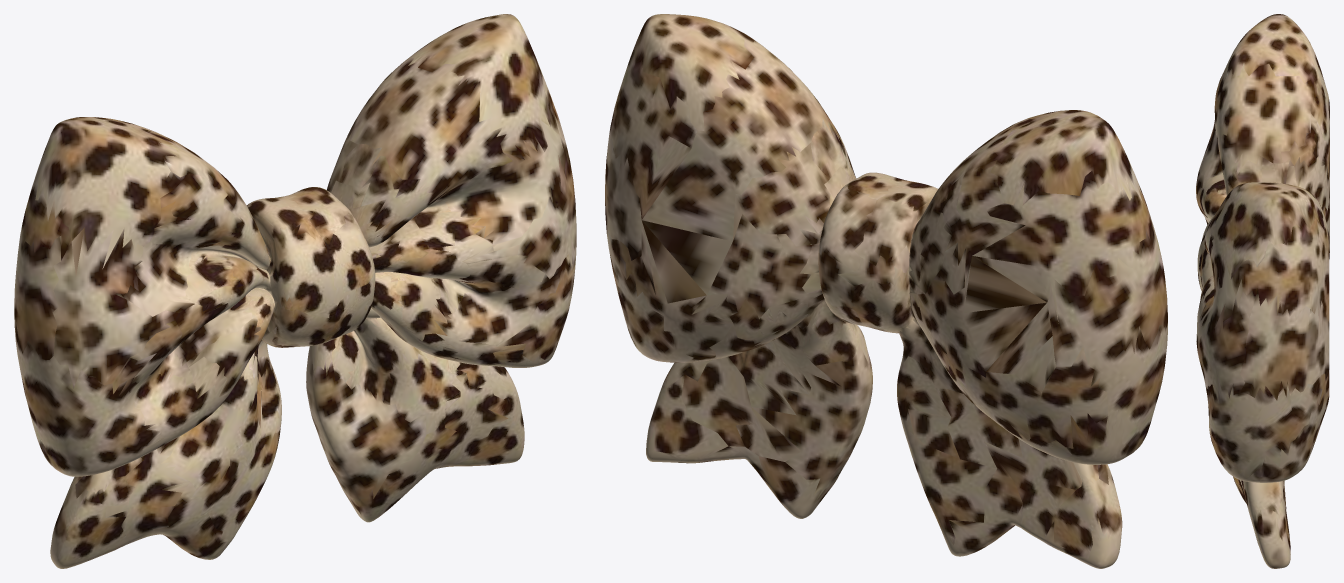
3 views of the same model, side by side, from view 1: azimuth 30°, elevation 25°; view 2: azimuth 150°, elevation 25°; view 3: azimuth 270°, elevation 25° (orthographic). The views are drawn at different scales.
Size of the model in its own units: 1.9 by 1.57 by 0.4874.
Materials: 1 (1 with a texture image).
